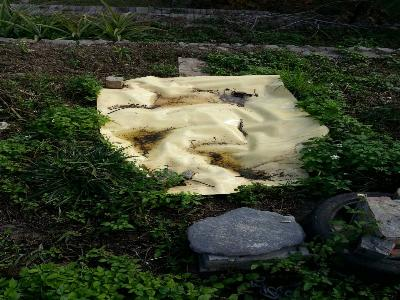plastic_bag: (100, 71, 328, 198)
